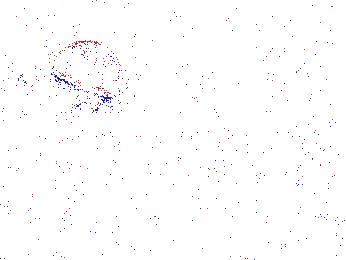moon jellyfish: (170, 1, 288, 75), (234, 23, 316, 109), (132, 16, 211, 103), (1, 8, 53, 88), (53, 41, 124, 99)
